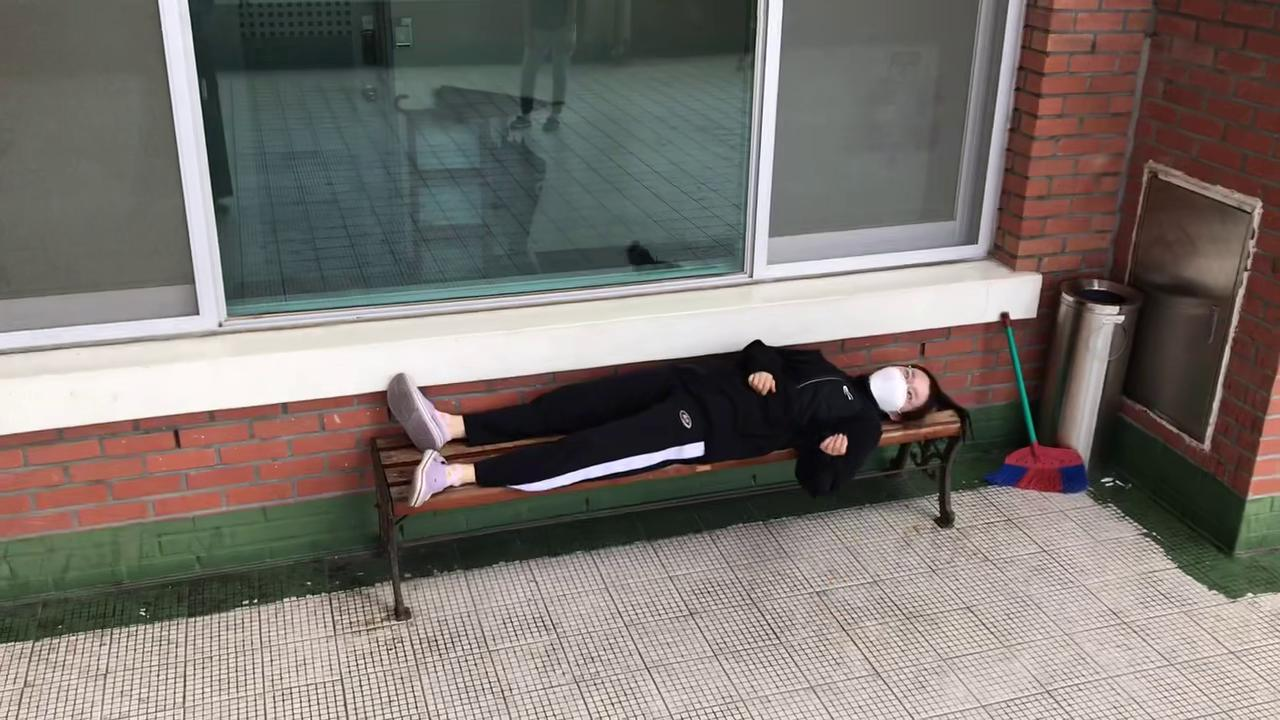sleep: (383, 332, 946, 504)
